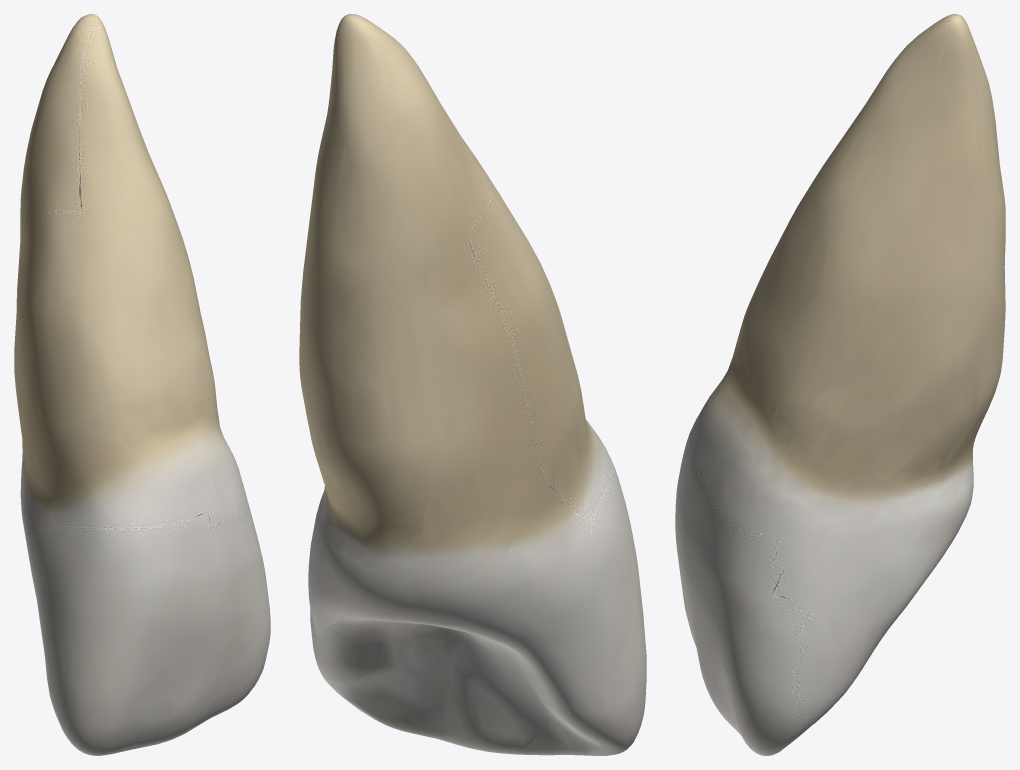
The model's file is maxillary_left_central_incisor.glb.
3 renders of one model, left to right at view 1: azimuth 30°, elevation 25°; view 2: azimuth 150°, elevation 25°; view 3: azimuth 270°, elevation 25°, orthographic. The views are drawn at different scales.
Visible parts, largest first — view 1: Object_2; view 2: Object_2; view 3: Object_2.
Boxes of the visible parts, x1,y1,x2,y2 form: Object_2: [14, 14, 270, 755]; Object_2: [299, 14, 646, 755]; Object_2: [675, 14, 1005, 755].
Size of the model in its own units: 0.3198 by 0.8746 by 0.3639.
Materials: 1 (1 with a texture image).
